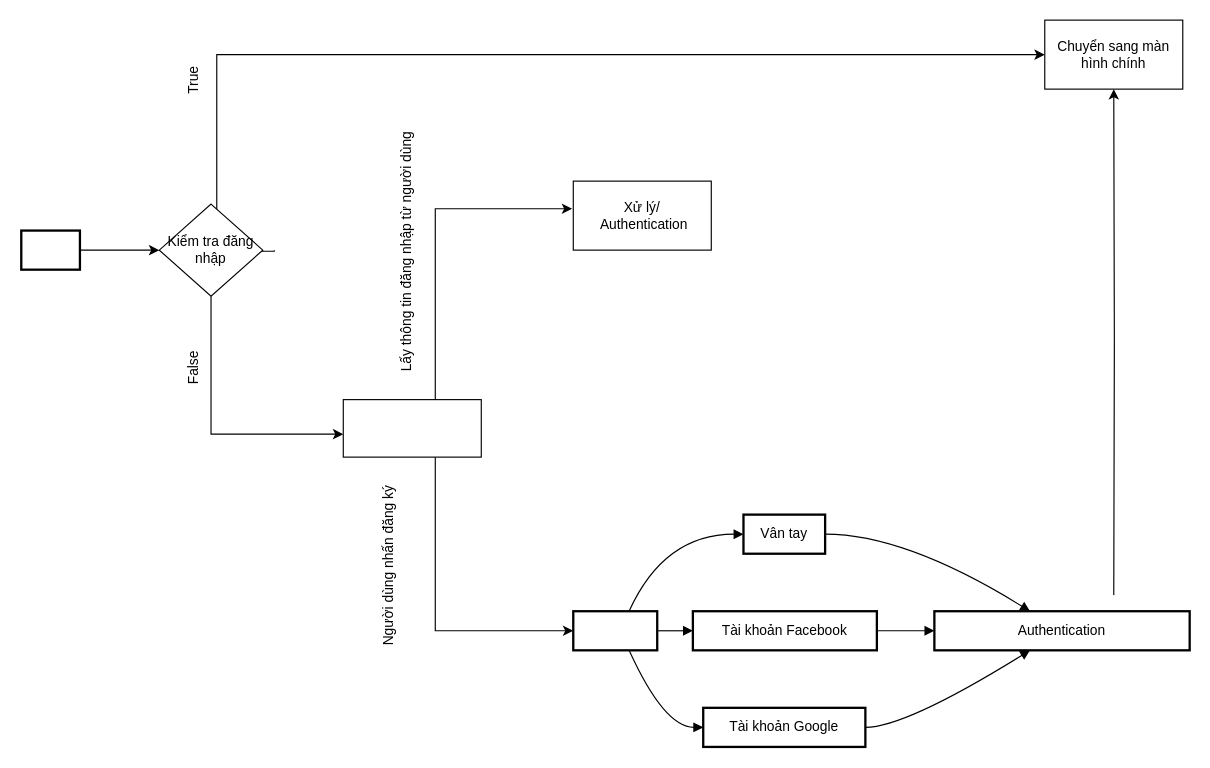
Some shapes in this 1210 by 768 pixel diagram are drawn without their labels. The shapes that lost their labels are listed below. From the top down, each one's box as (x1, y1, x2, y2) in pixels, then its label:
(20, 229, 80, 270): onStart
(342, 398, 481, 457): Đăng nhập
(572, 610, 658, 651): Đăng ký
